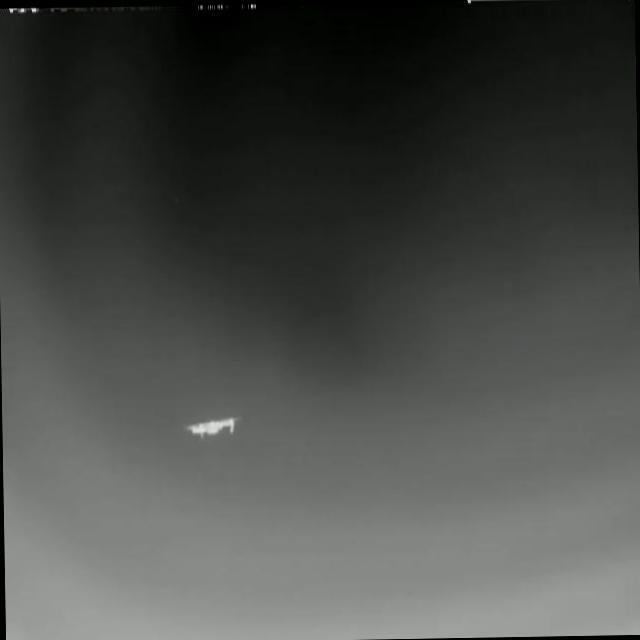DRONE: (178, 406, 246, 444)
